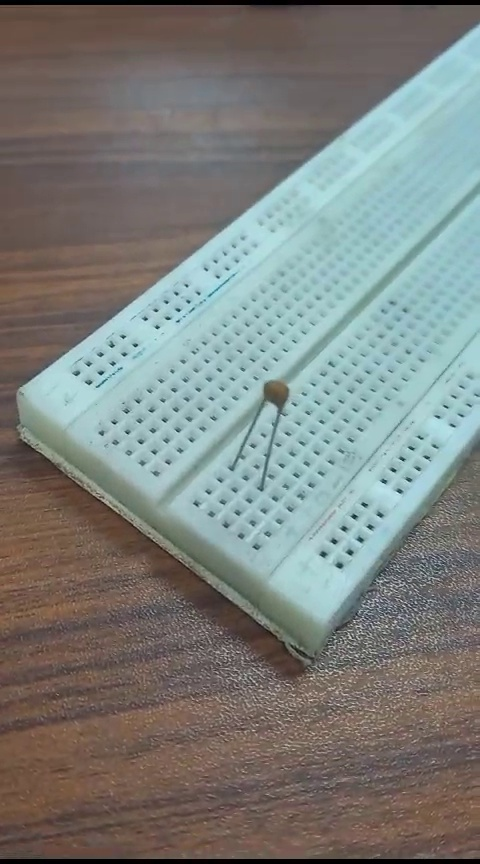ceramic capacitor: (239, 377, 299, 491)
